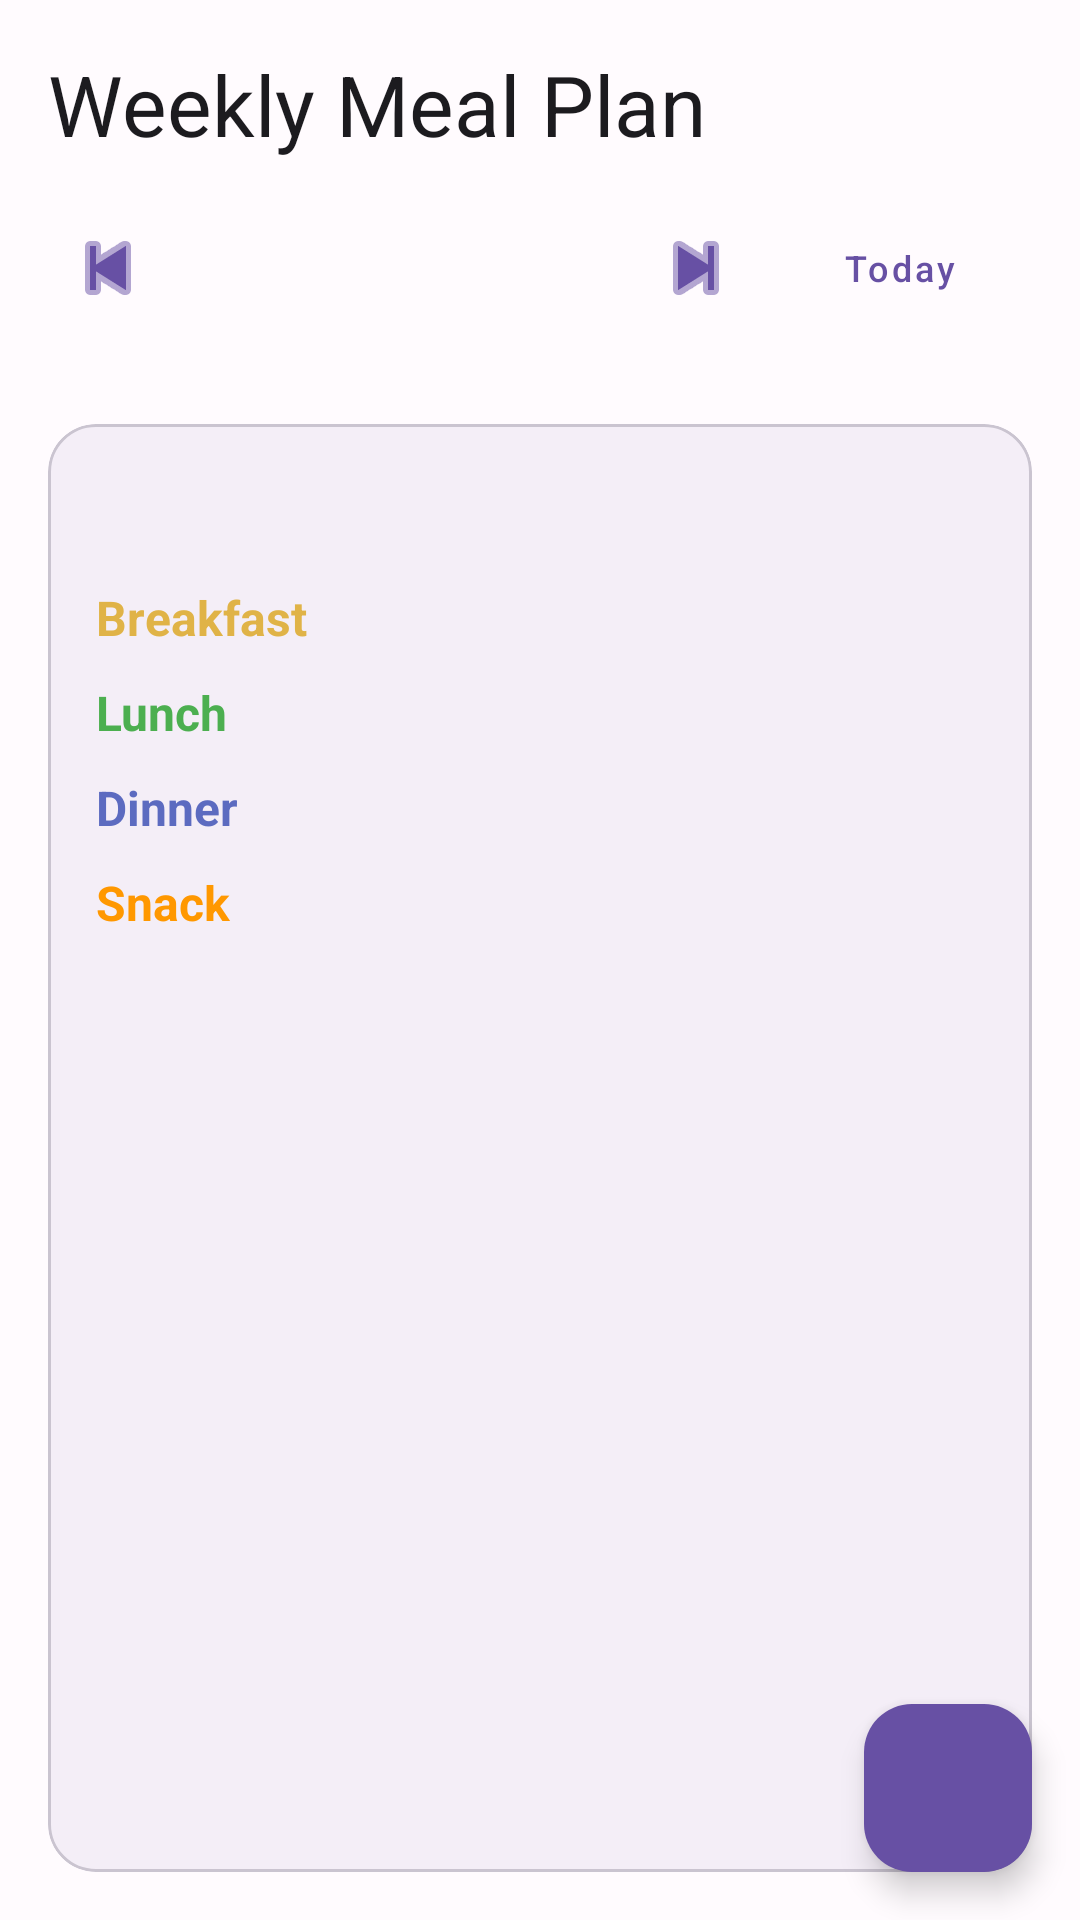

Locate icon controls on the screen. Image size 1080x1920, boxes as BBox(x1, y1, x2, y2).
Next Week: BBox(673, 241, 719, 295)
Previous Week: BBox(85, 241, 131, 295)
